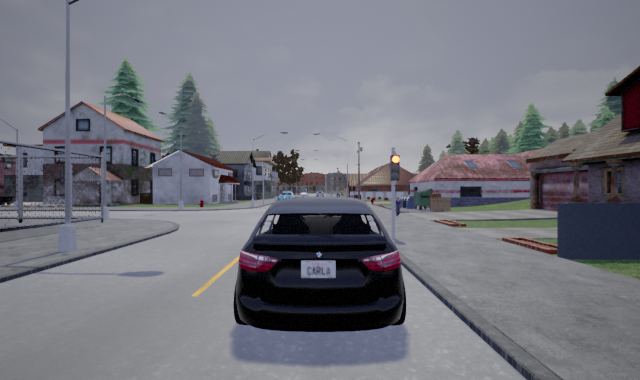vehicle: (231, 194, 406, 331)
